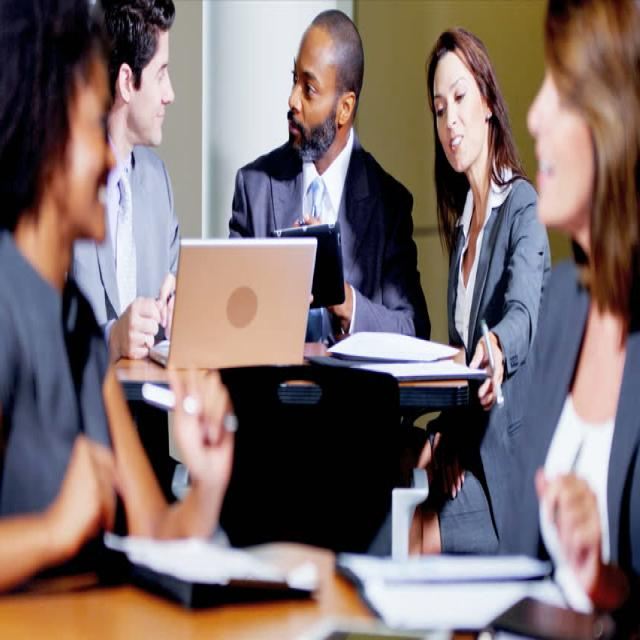adult: (411, 0, 639, 640), (0, 9, 231, 588), (228, 10, 436, 347), (55, 0, 198, 359), (425, 33, 552, 397)
